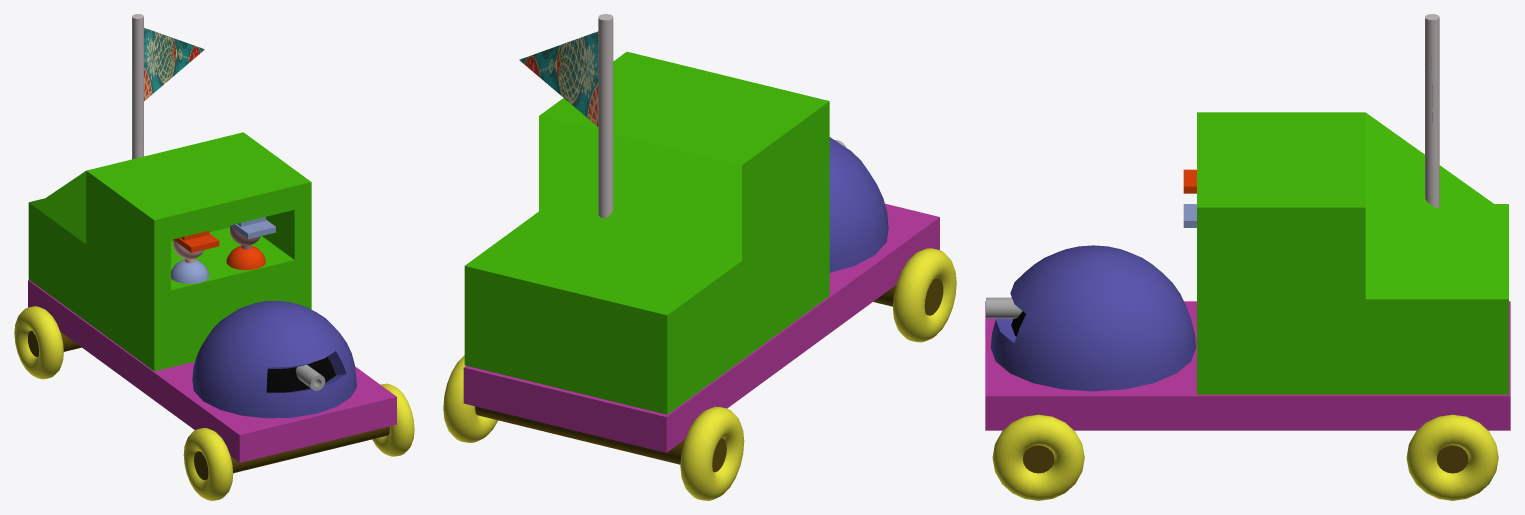
Rendered from ToyVehicleFBX 1.fbx.
The picture shows the model from 3 angles, left to right: view 1: azimuth 30°, elevation 25°; view 2: azimuth 150°, elevation 25°; view 3: azimuth 270°, elevation 25°; orthographic projection. The views are drawn at different scales.
Visible parts, largest first — view 1: pCube3, pSphere1, pCube2, pTorus3, pTorus4, pPyramid1, pCylinder1, pCylinder5, pTorus1, pSphere4, pSphere2, pCube4 (+2 smaller); view 2: pCube3, pCube2, pSphere1, pTorus3, pTorus4, pPyramid1, pCylinder5, pCylinder2, pTorus2, pCylinder1; view 3: pCube3, pSphere1, pCube2, pTorus1, pTorus2, pCylinder5, pCylinder1, pCylinder2, pPipe1.
Boxes of the visible parts, x1,y1,x2,y2 form: pCube3: (28, 132, 311, 371); pSphere1: (192, 301, 356, 418); pCube2: (28, 280, 396, 462); pTorus3: (14, 306, 63, 379); pTorus4: (183, 428, 233, 500); pPyramid1: (144, 27, 204, 100); pCylinder1: (194, 426, 389, 480); pCylinder5: (132, 14, 143, 159); pTorus1: (372, 383, 414, 456); pSphere4: (226, 245, 265, 270); pSphere2: (171, 259, 209, 283); pCube4: (173, 233, 219, 252); pCube3: (464, 51, 829, 414); pCube2: (463, 203, 939, 452); pSphere1: (829, 137, 888, 272); pTorus3: (680, 406, 744, 500); pTorus4: (893, 248, 956, 342); pPyramid1: (519, 31, 598, 126); pCylinder5: (598, 14, 613, 218); pCylinder2: (475, 406, 726, 472); pTorus2: (443, 355, 498, 442); pCylinder1: (873, 278, 943, 315); pCube3: (1197, 112, 1508, 394); pSphere1: (990, 245, 1195, 391); pCube2: (985, 301, 1510, 430); pTorus1: (992, 414, 1084, 500); pTorus2: (1406, 414, 1498, 500); pCylinder5: (1425, 14, 1439, 208); pCylinder1: (1023, 445, 1054, 473); pCylinder2: (1437, 445, 1468, 473); pPipe1: (986, 297, 1022, 318).
Size of the model in its own units: 319 by 511 by 570.
